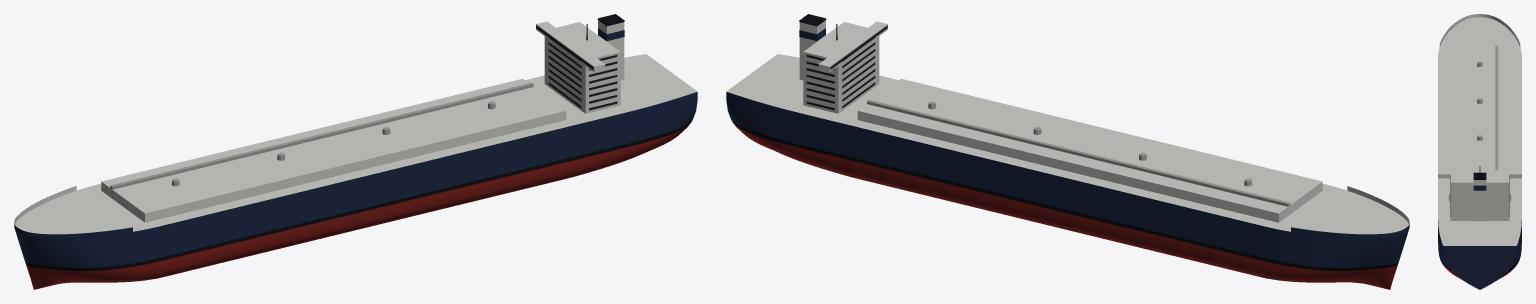
Rendered from lng_carrier.glb.
3 renders of one model, left to right at view 1: azimuth 30°, elevation 25°; view 2: azimuth 150°, elevation 25°; view 3: azimuth 270°, elevation 25°, orthographic. The views are drawn at different scales.
Parts seen in each view (by area): view 1: lng_carrier; view 2: lng_carrier; view 3: lng_carrier.
Part boxes in pixels (x1,y1,x2,y2): lng_carrier: (14,14,697,289); lng_carrier: (726,14,1409,289); lng_carrier: (1438,14,1521,289).
Size of the model in its own units: 297 by 56.86 by 46.01.
